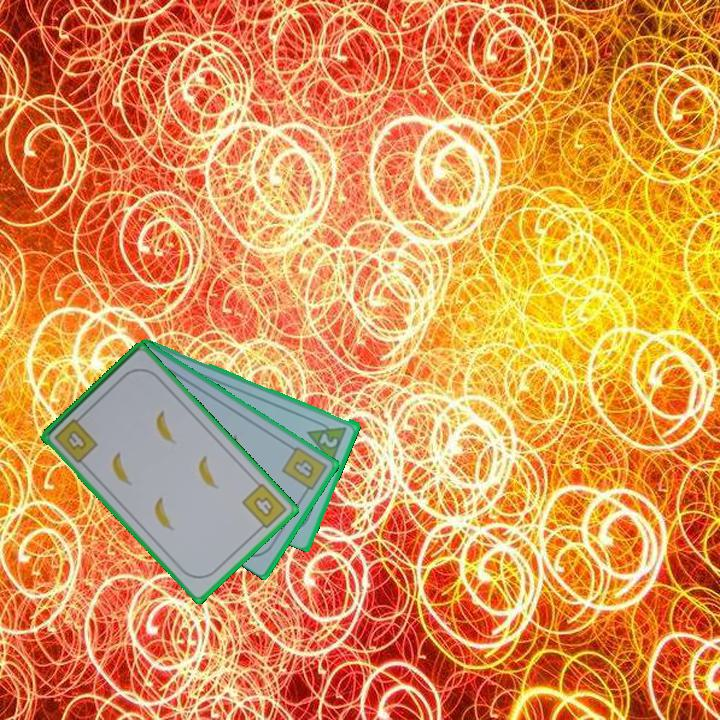2p: (304, 415, 350, 464)
4b: (278, 443, 330, 498), (238, 480, 290, 535), (50, 411, 101, 466)
